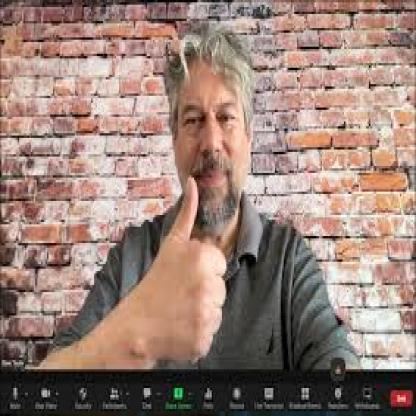thumb_up: (148, 170, 228, 364)
